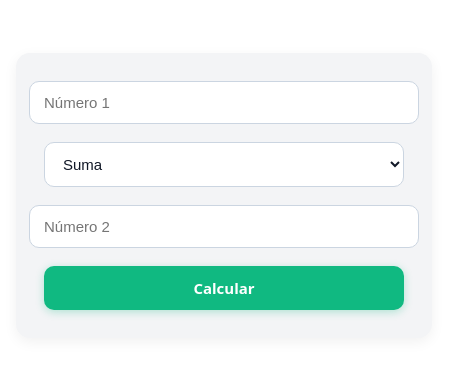
Scenario: Calculator component › Suma correctamente.
Type "5" into the number field with placeholder "Número 1".
click(224, 102); type("5")  # box x1=29 y1=80 x2=419 y2=124
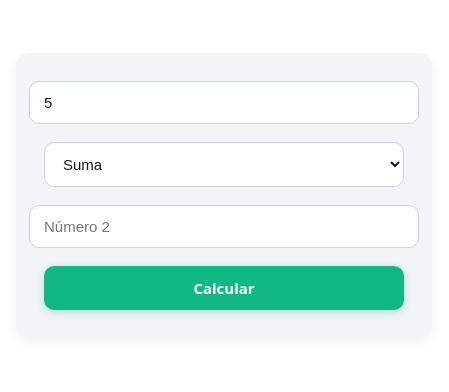
Type "3" into the number field with placeholder "Número 2".
click(224, 226); type("3")  # box x1=29 y1=204 x2=419 y2=248
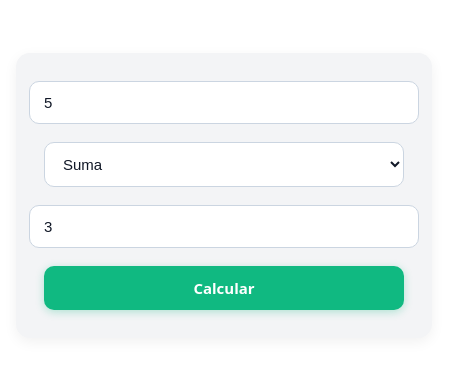
Click the button "Calcular".
click(224, 288)  # box x1=44 y1=266 x2=404 y2=310
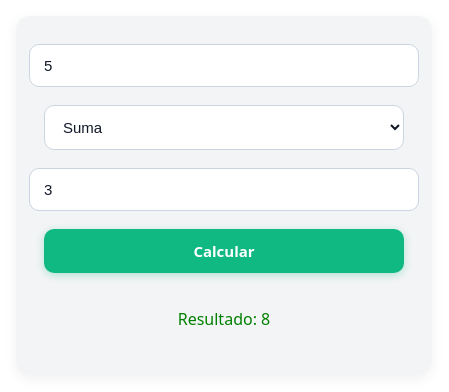
Expected: the text "Resultado: 8" is shown, x1=178 y1=306 x2=270 y2=330
